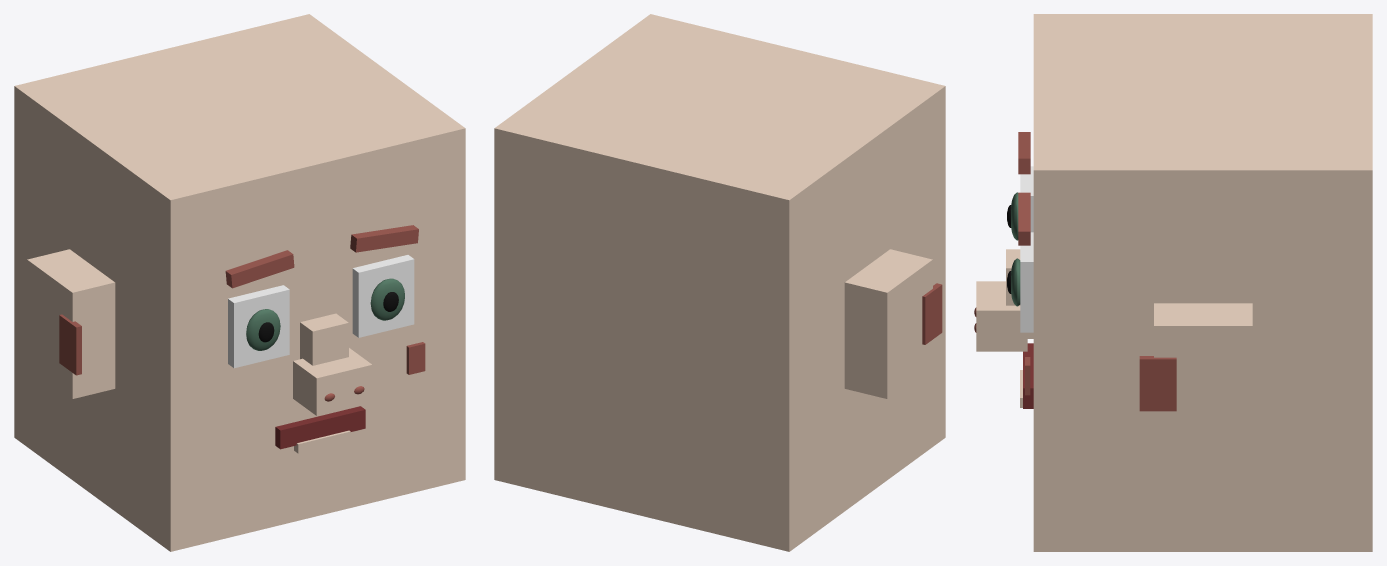
Rendered from skomma_head2.glb.
3 views of the same model, side by side, from view 1: azimuth 30°, elevation 25°; view 2: azimuth 150°, elevation 25°; view 3: azimuth 270°, elevation 25° (orthographic). The views are drawn at different scales.
Visible parts, largest first — view 1: Head, Left_Ear, Nose_Tip, Right_Eye, Left_Eye, Nose_Bridge, Mouth, Left_Eyebrow, Right_Eyebrow, Left_InnerEar, Right_Iris, Left_Iris (+2 smaller); view 2: Head, Left_Ear, Left_InnerEar; view 3: Head, Right_Ear, Nose_Tip, Right_InnerEar, Right_Eye, Right_Eyebrow, Left_Eyebrow, Mouth.
Boxes of the visible parts, bbox=[...] form: Head: bbox=[14, 14, 465, 551]; Left_Ear: bbox=[27, 249, 115, 398]; Nose_Tip: bbox=[293, 348, 372, 415]; Right_Eye: bbox=[352, 255, 414, 337]; Left_Eye: bbox=[228, 285, 289, 368]; Nose_Bridge: bbox=[300, 313, 348, 365]; Mouth: bbox=[275, 406, 365, 449]; Left_Eyebrow: bbox=[225, 250, 294, 288]; Right_Eyebrow: bbox=[350, 225, 418, 252]; Left_InnerEar: bbox=[59, 314, 81, 375]; Right_Iris: bbox=[370, 278, 404, 320]; Left_Iris: bbox=[246, 309, 280, 350]; Head: bbox=[494, 14, 945, 551]; Left_Ear: bbox=[844, 249, 932, 398]; Left_InnerEar: bbox=[922, 283, 942, 344]; Head: bbox=[1033, 14, 1372, 551]; Right_Ear: bbox=[1154, 303, 1252, 441]; Nose_Tip: bbox=[976, 281, 1027, 351]; Right_InnerEar: bbox=[1139, 356, 1176, 411]; Right_Eye: bbox=[1020, 232, 1033, 332]; Right_Eyebrow: bbox=[1018, 192, 1030, 245]; Left_Eyebrow: bbox=[1018, 132, 1030, 174]; Mouth: bbox=[1023, 343, 1033, 408].
Bounding box in the file's own units: 2.35 × 2.05 × 1.94.
